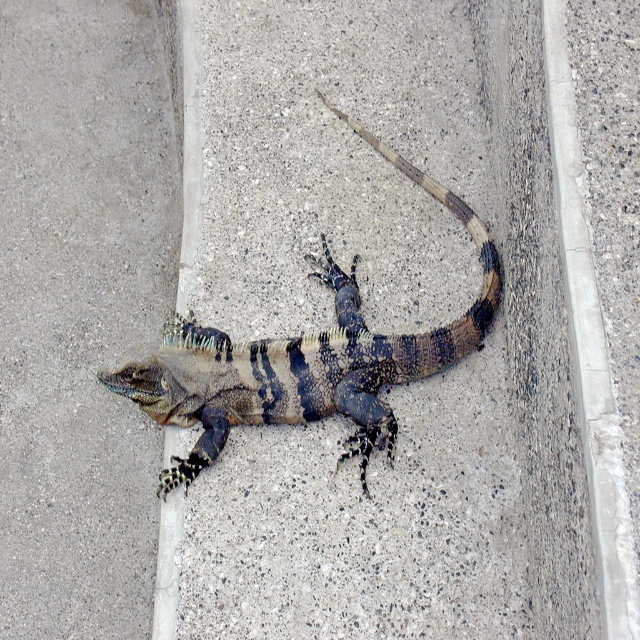Lizard: (94, 87, 504, 503)
